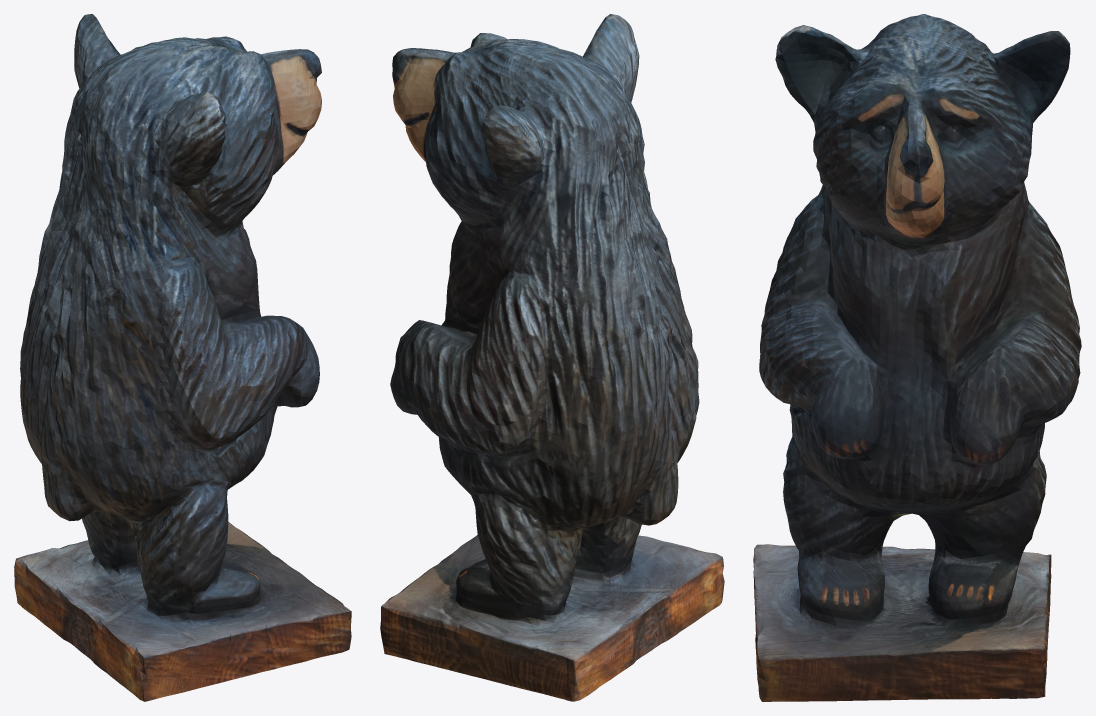
The model's file is 2ft Black Bear.glb.
3 renders of one model, left to right at view 1: azimuth 30°, elevation 25°; view 2: azimuth 150°, elevation 25°; view 3: azimuth 270°, elevation 25°, orthographic. The views are drawn at different scales.
Size of the model in its own units: 0.237 by 0.4736 by 0.2293.
1 material, 1 textured.
